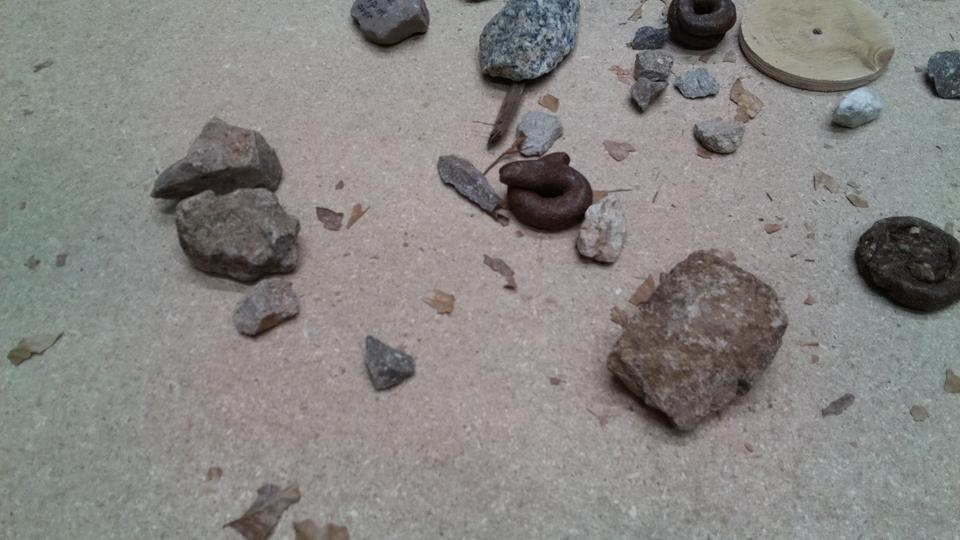poop: (852, 210, 958, 315), (495, 150, 595, 231), (666, 1, 739, 53)
